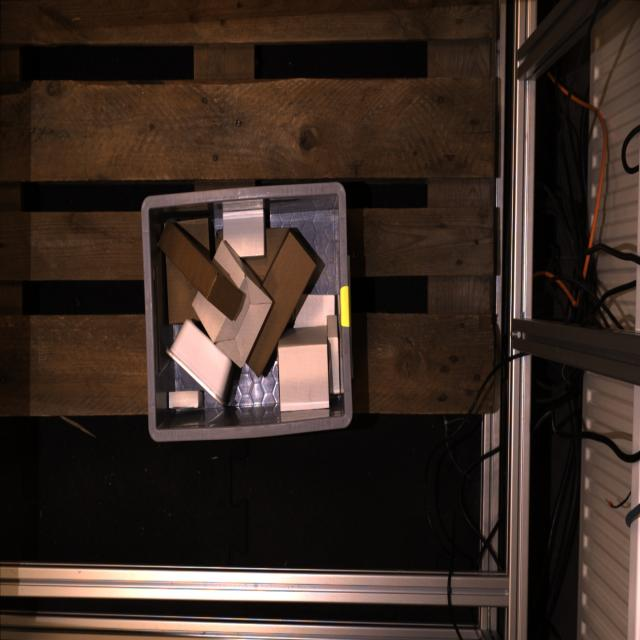CardboardBox: (246, 229, 325, 378), (192, 241, 273, 369), (158, 220, 243, 320), (278, 325, 329, 411), (160, 251, 199, 324), (246, 228, 288, 280), (223, 209, 264, 257), (170, 218, 210, 260), (294, 295, 336, 329), (327, 315, 340, 394), (169, 391, 204, 407), (215, 230, 223, 251)
PlasticContainer: (165, 319, 231, 407)
